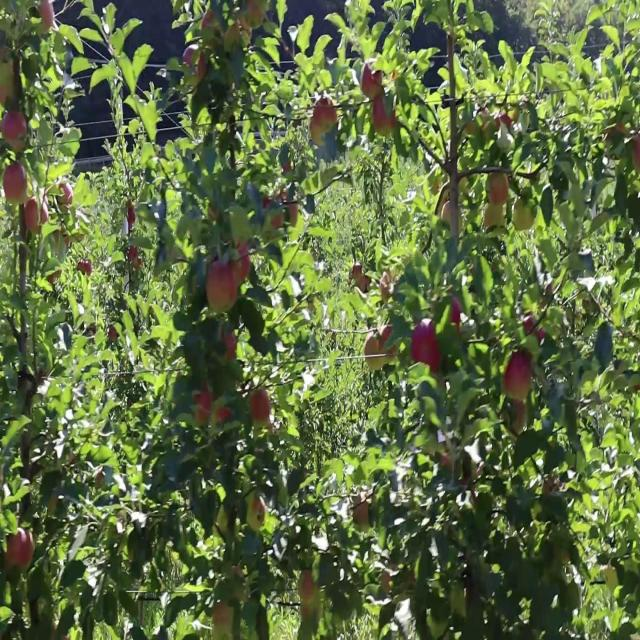apple: (412, 319, 443, 375), (208, 263, 239, 316), (196, 383, 232, 425), (504, 355, 535, 400), (264, 191, 299, 229), (312, 99, 339, 148), (196, 383, 224, 427), (372, 92, 398, 137), (368, 63, 399, 100), (500, 398, 527, 439), (4, 163, 28, 206), (228, 241, 252, 284), (8, 533, 35, 571), (4, 113, 28, 155), (264, 191, 288, 229), (24, 199, 49, 235), (512, 199, 537, 235), (360, 63, 384, 100), (184, 49, 208, 84), (488, 170, 511, 206), (364, 334, 384, 373), (196, 383, 214, 425), (224, 21, 247, 53), (248, 497, 268, 533), (200, 14, 221, 48), (524, 312, 547, 343), (0, 71, 19, 108), (252, 391, 272, 425), (352, 497, 372, 530), (380, 327, 398, 361), (352, 263, 371, 295), (300, 568, 316, 606), (484, 206, 507, 231), (212, 604, 234, 629), (244, 7, 266, 30), (220, 334, 237, 363), (604, 120, 626, 140), (40, 7, 56, 34), (452, 298, 463, 336), (496, 113, 515, 135), (128, 248, 143, 270), (60, 184, 73, 208), (632, 135, 640, 174), (440, 455, 455, 473), (108, 327, 119, 343), (80, 263, 92, 277), (384, 575, 393, 592)
